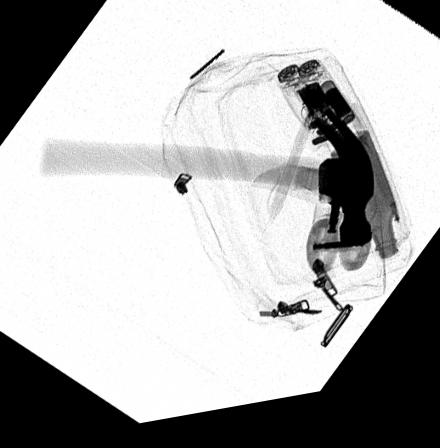Hammer: (39, 118, 374, 259)
